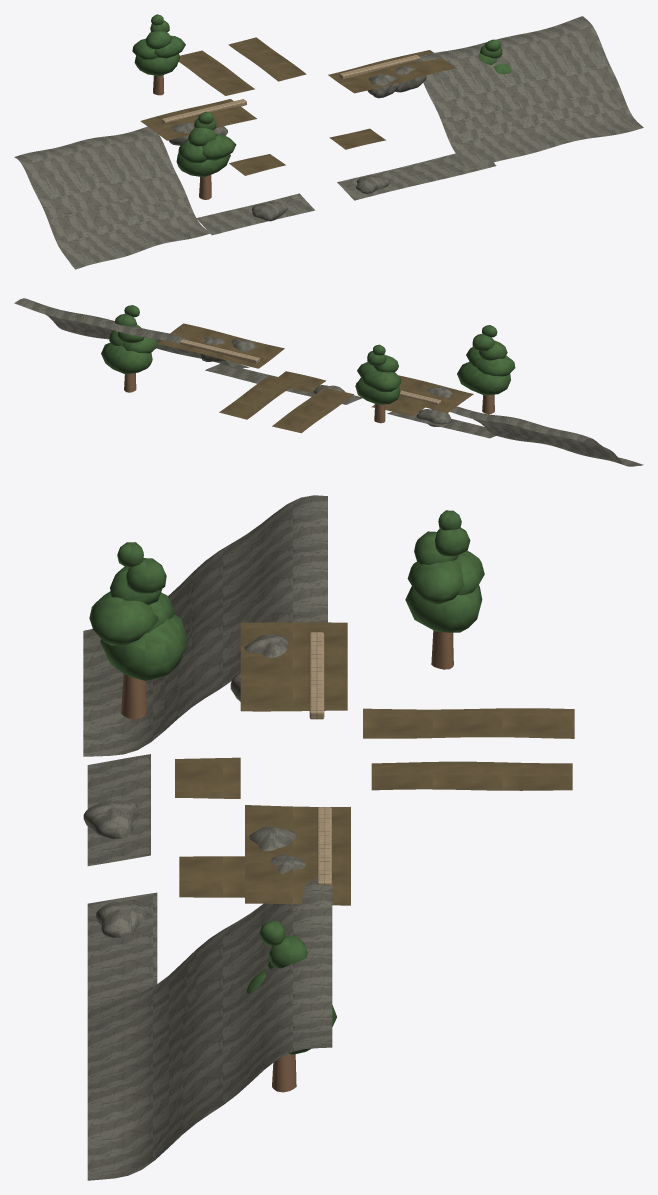
Rendered from GoldenLocalVisualShellV1.glb.
3 renders of one model, top to bottom at view 1: azimuth 30°, elevation 25°; view 2: azimuth 150°, elevation 25°; view 3: azimuth 270°, elevation 25°, orthographic. The views are drawn at different scales.
Visible parts, largest first — view 1: Rock_GoldenCliff_East, Rock_GoldenCliff_West, ShoreRock_GoldenBankEast, GoldenGround_GateEast, ShoreRock_GoldenBankWest, GoldenGround_GateWest, GoldenGround_RoadWest, GoldenGround_RoadEast, Tree_GoldenLocal_ForegroundWest_Canopy_00, GoldenGround_BridgeWestShoulder, Tree_GoldenLocal_WestGate_Canopy_00, GoldenGround_BridgeEastShoulder (+11 smaller); view 2: Rock_GoldenCliff_West, Rock_GoldenCliff_East, GoldenGround_GateEast, GoldenGround_RoadWest, GoldenGround_RoadEast, GoldenGround_GateWest, Tree_GoldenLocal_ForegroundWest_Canopy_00, Tree_GoldenLocal_BridgeEast_Canopy_00, ShoreRock_GoldenBankEast, ShoreRock_GoldenBankWest, Tree_GoldenLocal_WestGate_Canopy_01, Tree_GoldenLocal_WestGate_Canopy_00 (+10 smaller); view 3: Rock_GoldenCliff_East, Rock_GoldenCliff_West, GoldenGround_GateWest, GoldenGround_GateEast, GoldenGround_RoadWest, ShoreRock_GoldenBankEast, GoldenGround_RoadEast, ShoreRock_GoldenBankWest, Tree_GoldenLocal_ForegroundWest_Canopy_00, GoldenGround_BridgeEastShoulder, GoldenGround_BridgeWestShoulder, Tree_GoldenLocal_ForegroundWest_Canopy_02 (+8 smaller).
Boxes of the visible parts, left/top/right/bottom form: Rock_GoldenCliff_East: left=412, top=16, right=643, bottom=170; Rock_GoldenCliff_West: left=14, top=126, right=210, bottom=269; ShoreRock_GoldenBankEast: left=337, top=153, right=496, bottom=200; GoldenGround_GateEast: left=328, top=50, right=455, bottom=93; ShoreRock_GoldenBankWest: left=196, top=193, right=315, bottom=235; GoldenGround_GateWest: left=140, top=99, right=257, bottom=140; GoldenGround_RoadWest: left=178, top=50, right=254, bottom=95; GoldenGround_RoadEast: left=228, top=37, right=306, bottom=81; Tree_GoldenLocal_ForegroundWest_Canopy_00: left=176, top=153, right=230, bottom=177; GoldenGround_BridgeWestShoulder: left=229, top=154, right=285, bottom=175; Tree_GoldenLocal_WestGate_Canopy_00: left=134, top=53, right=180, bottom=76; GoldenGround_BridgeEastShoulder: left=329, top=128, right=385, bottom=149; Rock_GoldenCliff_West: left=450, top=406, right=643, bottom=466; Rock_GoldenCliff_East: left=14, top=298, right=249, bottom=368; GoldenGround_GateEast: left=157, top=323, right=284, bottom=368; GoldenGround_RoadWest: left=272, top=387, right=353, bottom=433; GoldenGround_RoadEast: left=219, top=376, right=296, bottom=419; GoldenGround_GateWest: left=396, top=375, right=473, bottom=413; Tree_GoldenLocal_ForegroundWest_Canopy_00: left=457, top=361, right=510, bottom=395; Tree_GoldenLocal_BridgeEast_Canopy_00: left=101, top=342, right=152, bottom=374; ShoreRock_GoldenBankEast: left=205, top=363, right=362, bottom=404; ShoreRock_GoldenBankWest: left=387, top=411, right=495, bottom=438; Tree_GoldenLocal_WestGate_Canopy_01: left=361, top=370, right=401, bottom=391; Tree_GoldenLocal_WestGate_Canopy_00: left=355, top=378, right=400, bottom=404; Rock_GoldenCliff_East: left=87, top=877, right=332, bottom=1180; Rock_GoldenCliff_West: left=83, top=495, right=327, bottom=756; GoldenGround_GateWest: left=240, top=622, right=347, bottom=711; GoldenGround_GateEast: left=245, top=805, right=350, bottom=905; GoldenGround_RoadWest: left=363, top=708, right=574, bottom=738; ShoreRock_GoldenBankEast: left=87, top=892, right=157, bottom=1009; GoldenGround_RoadEast: left=371, top=761, right=572, bottom=790; ShoreRock_GoldenBankWest: left=87, top=754, right=150, bottom=866; Tree_GoldenLocal_ForegroundWest_Canopy_00: left=100, top=614, right=187, bottom=680; GoldenGround_BridgeEastShoulder: left=179, top=856, right=244, bottom=897; GoldenGround_BridgeWestShoulder: left=175, top=757, right=240, bottom=798; Tree_GoldenLocal_ForegroundWest_Canopy_02: left=89, top=591, right=158, bottom=645.
Size of the model in its own units: 60 by 14.73 by 22.5.
Materials: 5 (4 with a texture image).
